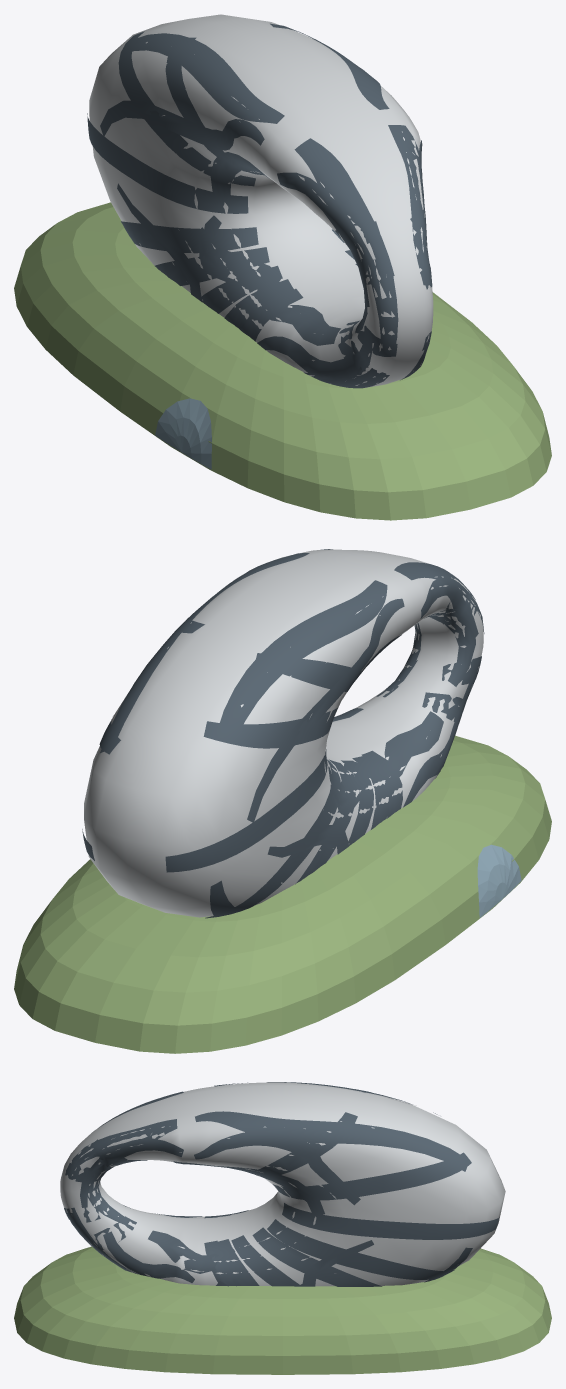
Rendered from dubai-museum-of-the-future.glb.
The picture shows the model from 3 angles, top to bottom: view 1: azimuth 30°, elevation 25°; view 2: azimuth 150°, elevation 25°; view 3: azimuth 270°, elevation 25°; orthographic projection. The views are drawn at different scales.
Parts seen in each view (by area): view 1: Museum of the Future; view 2: Museum of the Future; view 3: Museum of the Future.
Boxes of the visible parts, x1,y1,x2,y2 form: Museum of the Future: [14, 14, 551, 520]; Museum of the Future: [14, 549, 551, 1053]; Museum of the Future: [14, 1082, 551, 1374].
Bounding box in the file's own units: 84 × 76.97 × 168.
